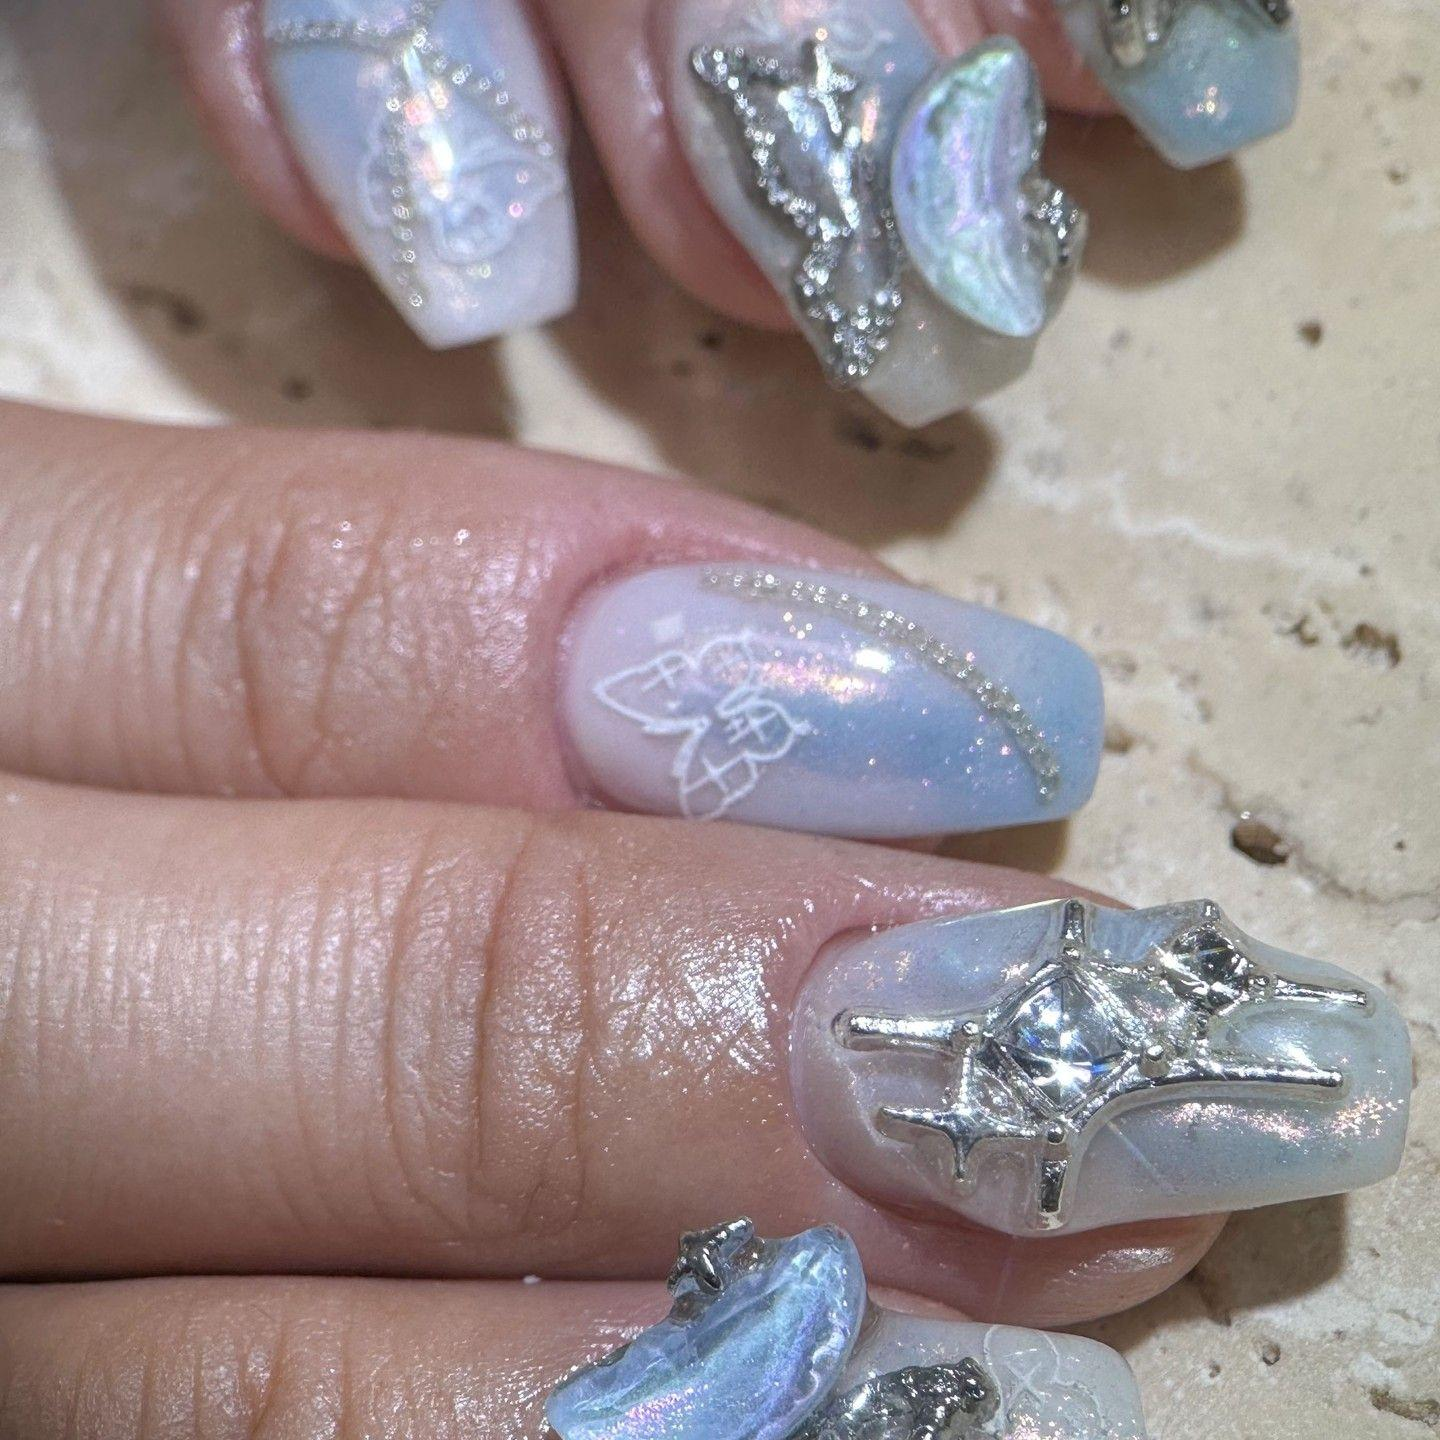nail: (786, 891, 1415, 1237), (553, 556, 1106, 840), (256, 0, 582, 351), (539, 1215, 866, 1437)
